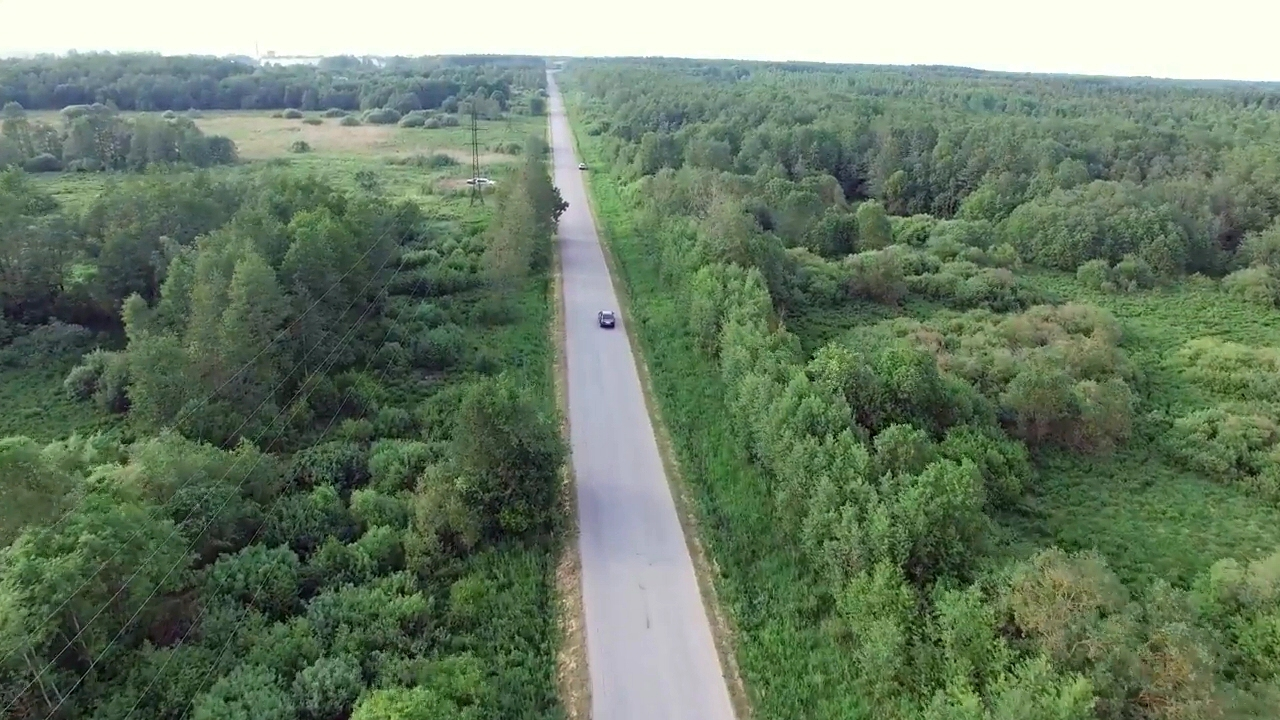araba: (597, 309, 615, 330), (578, 160, 588, 170)
